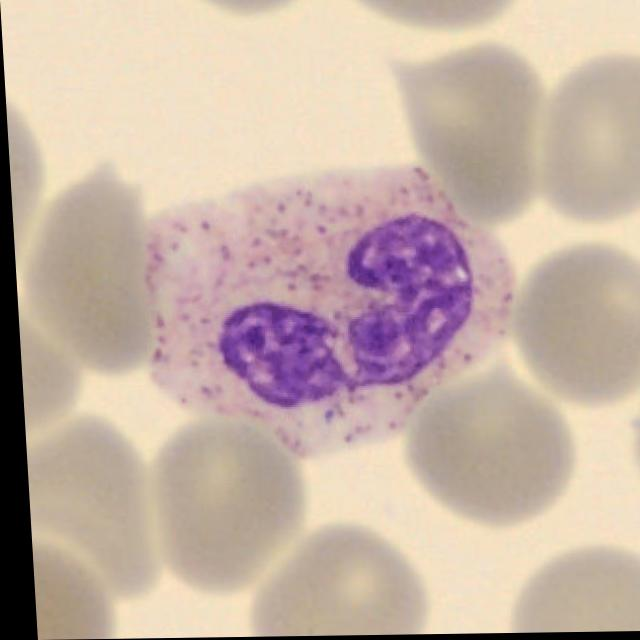Neutrofilo segmentado: (141, 163, 511, 459)
